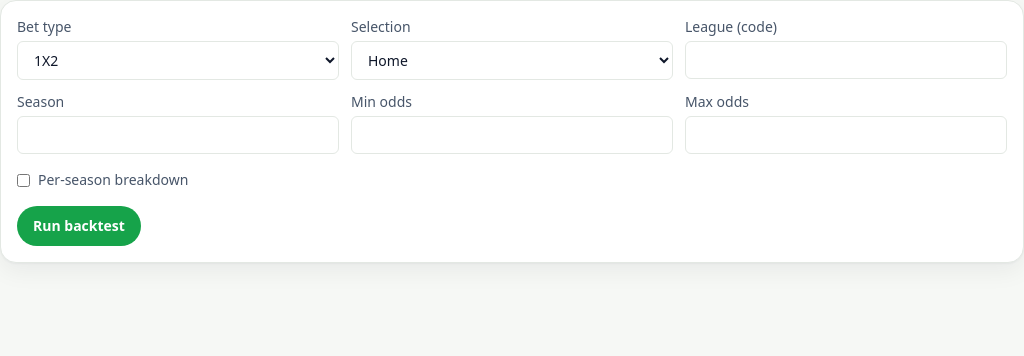
BacktesterView › shows the daily-limit message on a 403
Click the button "Run backtest". click: (79, 226)
box: [17,206,141,246]
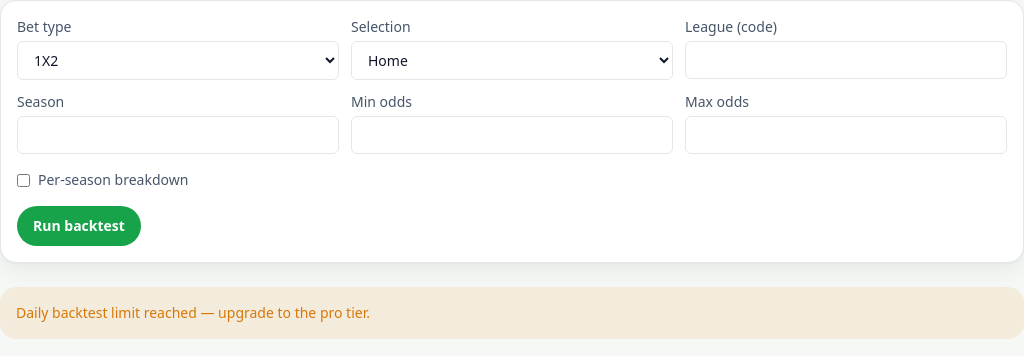
expect the message shows "Daily backtest limit reached": met, box [16,303,370,322]
